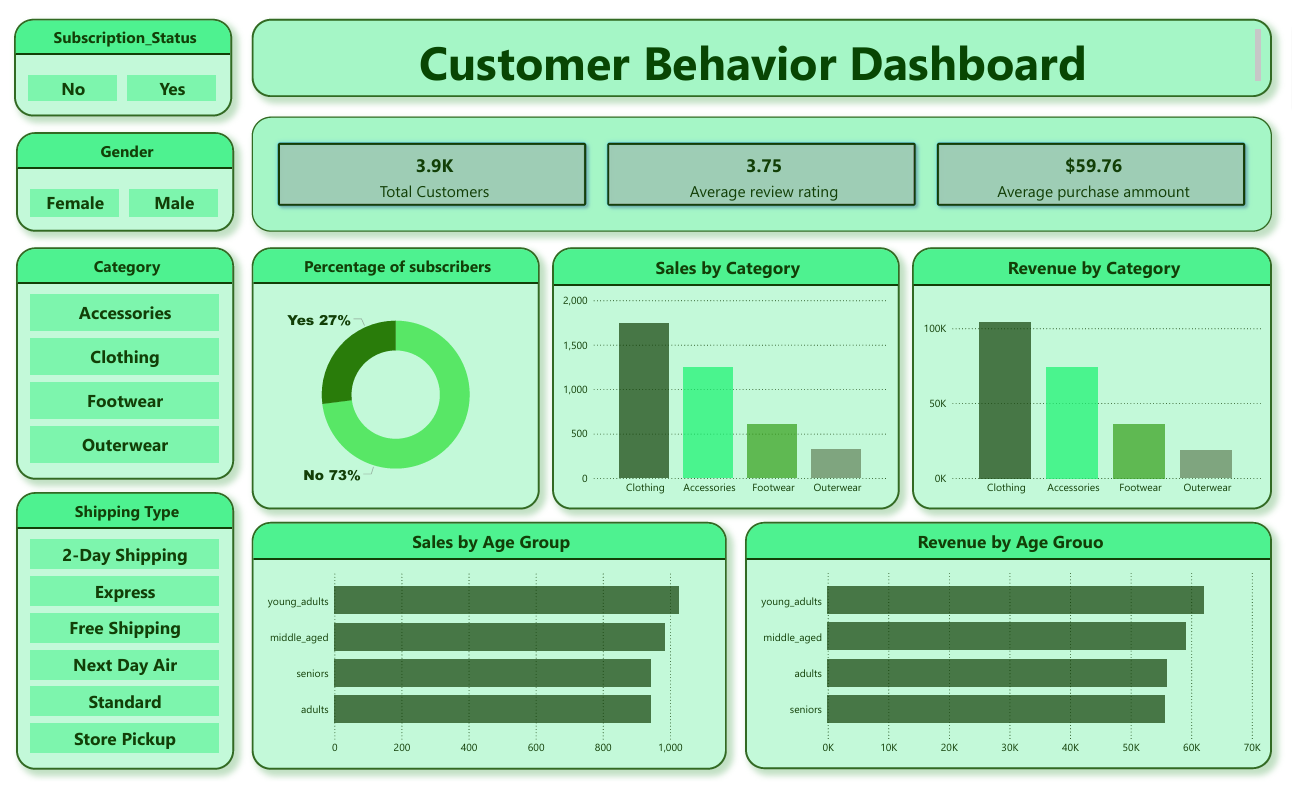

The page's visual inventory and layout, read from the dashboard file:
{"tool":"powerbi","page":{"name":"Page 1","canvas":[2000,1200],"ordinal":0},"visuals":[{"type":"cardVisual","fields":{"Data":["customer_behavior customer.Num of customers","customer_behavior customer.Avg review rating","customer_behavior customer.Avg purchase amt"]},"box":[394,172.7,1576,178.1],"z":0},{"type":"textbox","box":[394,21.6,1576,121.4],"z":1000},{"type":"donutChart","title":"Percentage of subscribers ","fields":{"Category":["customer_behavior customer.subscription_status"],"Y":["CountNonNull(customer_behavior customer.customer_id)"]},"box":[394,375.1,445.3,404.8],"z":2000},{"type":"clusteredColumnChart","title":"Revenue by Category","fields":{"Category":["customer_behavior customer.category"],"Y":["Sum(customer_behavior customer.purchase_amount)"]},"box":[1414.1,375.1,555.9,404.8],"z":3000},{"type":"clusteredColumnChart","title":"Sales by Category","fields":{"Category":["customer_behavior customer.category"],"Y":["CountNonNull(customer_behavior customer.customer_id)"]},"box":[858.2,375.1,537,404.8],"z":4000},{"type":"advancedSlicerVisual","title":"Subscription_Status","fields":{"Values":["customer_behavior customer.subscription_status"]},"box":[27,21.6,337.3,151.1],"z":5000},{"type":"advancedSlicerVisual","title":"Gender","fields":{"Values":["customer_behavior customer.gender"]},"box":[29.7,197,337.3,153.8],"z":6000},{"type":"advancedSlicerVisual","title":"Category ","fields":{"Values":["customer_behavior customer.category"]},"box":[29.7,375.1,337.3,358.9],"z":7000},{"type":"listSlicer","title":"Shipping Type","fields":{"Values":["customer_behavior customer.shipping_type"]},"box":[29.7,752.9,337.3,429.1],"z":8000},{"type":"clusteredBarChart","title":"Sales by Age Group","fields":{"Category":["customer_behavior customer.age_group"],"Y":["CountNonNull(customer_behavior customer.customer_id)"]},"box":[394,798.8,734.1,383.2],"z":9000},{"type":"clusteredBarChart","title":"Revenue by Age Grouo","fields":{"Category":["customer_behavior customer.age_group"],"Y":["Sum(customer_behavior customer.purchase_amount)"]},"box":[1155.7,798.6,814.3,382.9],"z":10000}]}

Visuals, with their boxes in screenshot pixels (x1, y1, x2, y2), scaled from the page's 2000x1200 canvas onto the 1292x785 screenshot:
cardVisual - customer_behavior customer.Num of customers x customer_behavior customer.Avg review rating: left=255, top=113, right=1273, bottom=229
textbox: left=255, top=14, right=1273, bottom=94
"Percentage of subscribers " donutChart: left=255, top=245, right=542, bottom=510
"Revenue by Category" clusteredColumnChart: left=914, top=245, right=1273, bottom=510
"Sales by Category" clusteredColumnChart: left=554, top=245, right=901, bottom=510
"Subscription_Status" advancedSlicerVisual: left=17, top=14, right=235, bottom=113
"Gender" advancedSlicerVisual: left=19, top=129, right=237, bottom=229
"Category " advancedSlicerVisual: left=19, top=245, right=237, bottom=480
"Shipping Type" listSlicer: left=19, top=493, right=237, bottom=773
"Sales by Age Group" clusteredBarChart: left=255, top=523, right=729, bottom=773
"Revenue by Age Grouo" clusteredBarChart: left=747, top=522, right=1273, bottom=773
